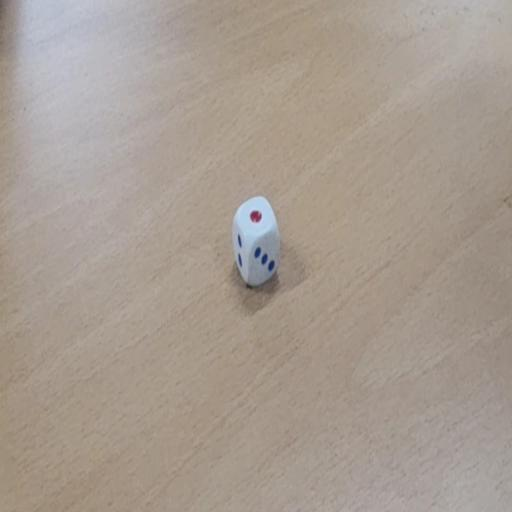dice_1: (232, 195, 282, 291)
